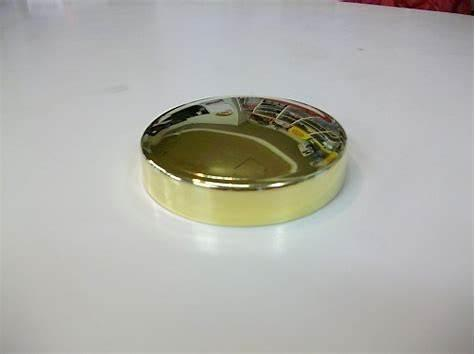metal: (141, 97, 348, 226)
